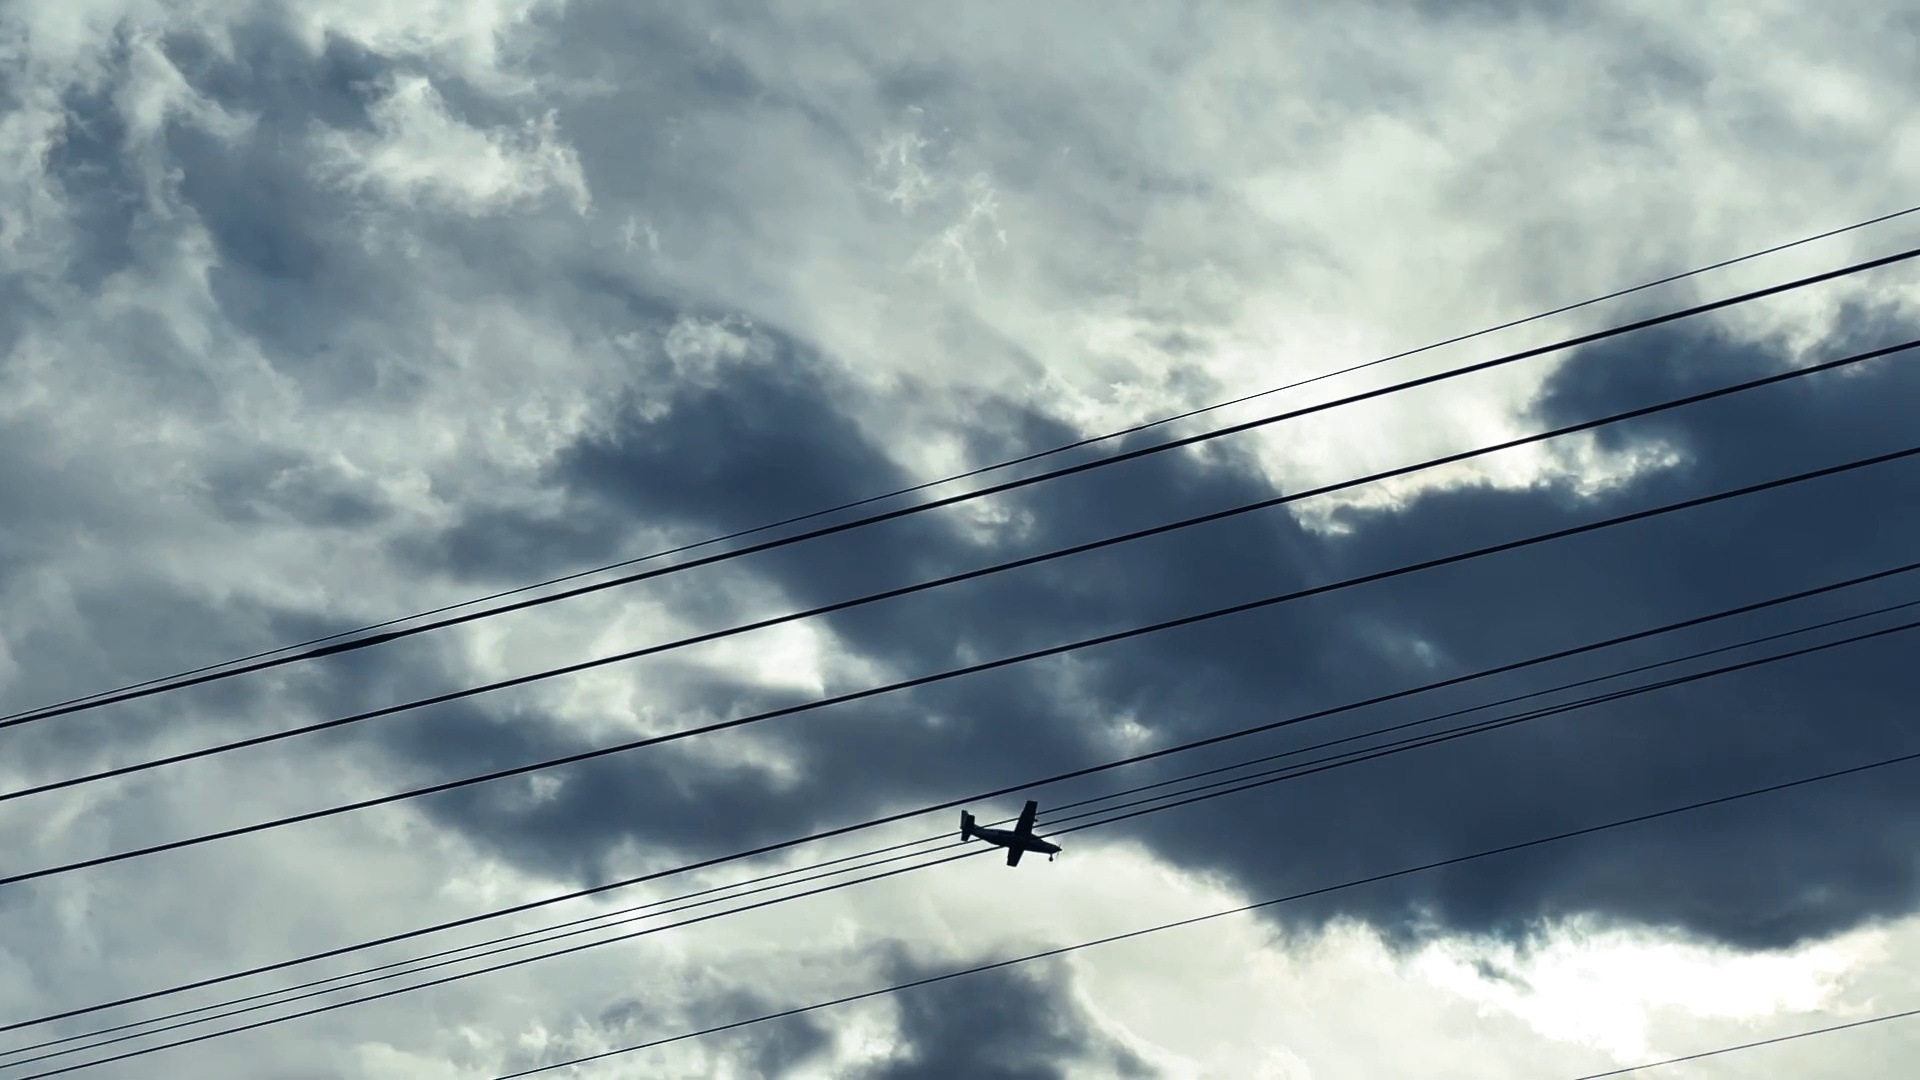plane: (960, 799, 1060, 865)
